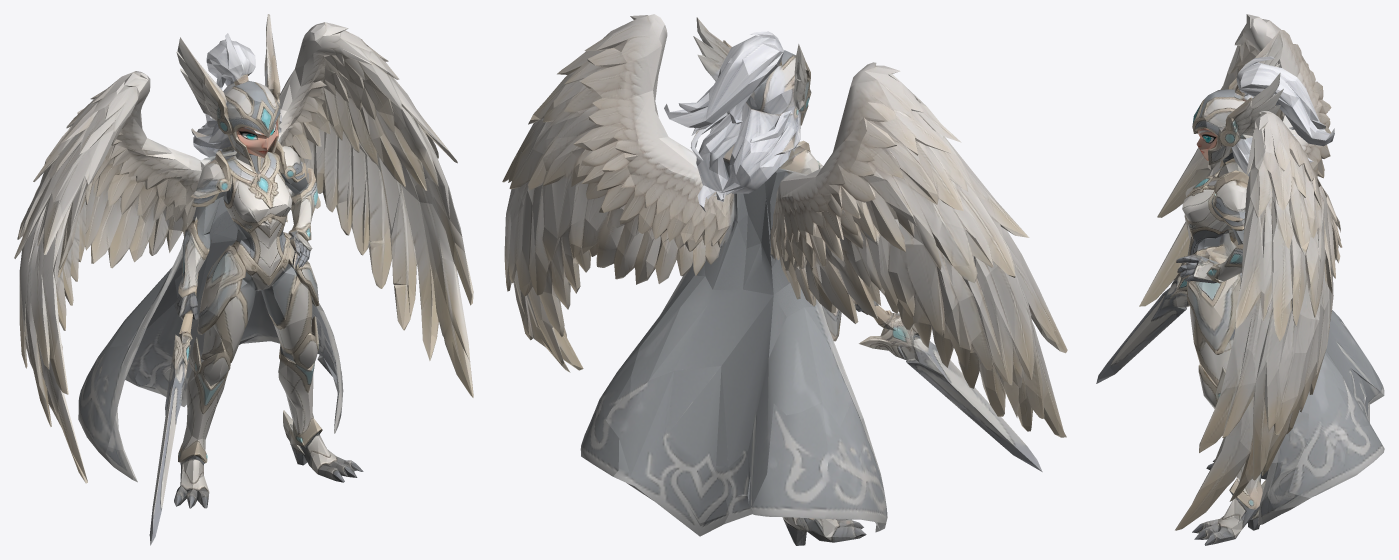
The picture shows the model from 3 angles, left to right: view 1: azimuth 30°, elevation 25°; view 2: azimuth 150°, elevation 25°; view 3: azimuth 270°, elevation 25°; orthographic projection. The views are drawn at different scales.
Size of the model in its own units: 1.9 by 1.82 by 1.07.
Materials: 1 (1 with a texture image).
